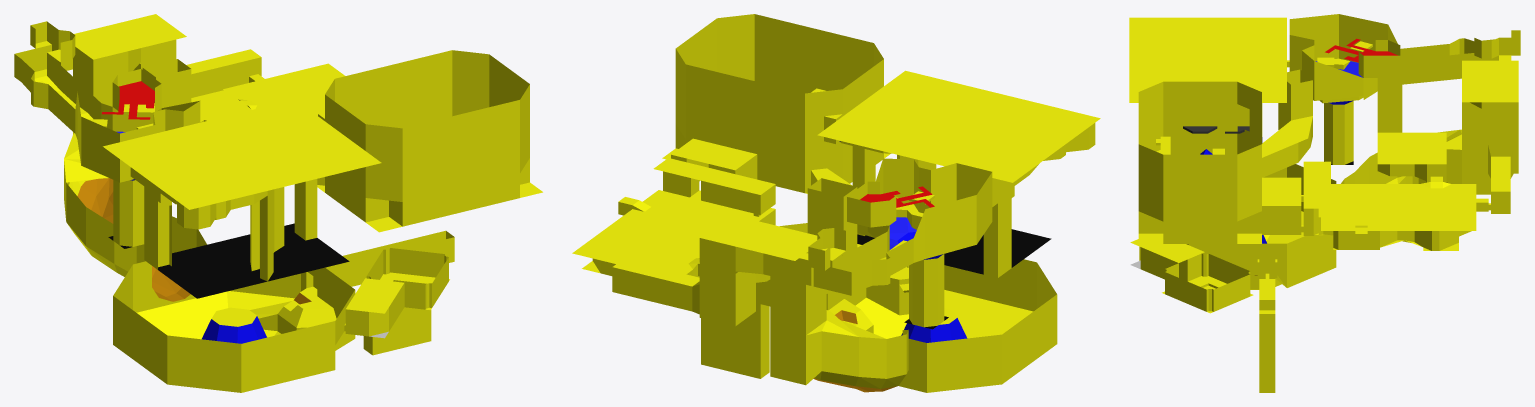
The model's file is hmc_segment7.0x25594.collision.obj.
3 renders of one model, left to right at view 1: azimuth 30°, elevation 25°; view 2: azimuth 150°, elevation 25°; view 3: azimuth 270°, elevation 25°, orthographic. The views are drawn at different scales.
Parts seen in each view (by area): view 1: hmc_segment7_25594_normal, hmc_segment7_25594_deathfloor, hmc_segment7_25594_climbable, hmc_segment7_25594_very_slippery, hmc_segment7_25594_hang; view 2: hmc_segment7_25594_normal, hmc_segment7_25594_deathfloor, hmc_segment7_25594_very_slippery, hmc_segment7_25594_hang, hmc_segment7_25594_slippery, hmc_segment7_25594_climbable; view 3: hmc_segment7_25594_normal, hmc_segment7_25594_hang, hmc_segment7_25594_fence.
Boxes of the visible parts, bbox=[...] form: hmc_segment7_25594_normal: bbox=[14, 14, 542, 392]; hmc_segment7_25594_deathfloor: bbox=[108, 223, 349, 298]; hmc_segment7_25594_climbable: bbox=[77, 178, 311, 304]; hmc_segment7_25594_very_slippery: bbox=[130, 179, 266, 343]; hmc_segment7_25594_hang: bbox=[102, 81, 154, 119]; hmc_segment7_25594_normal: bbox=[572, 14, 1100, 392]; hmc_segment7_25594_deathfloor: bbox=[857, 229, 1051, 329]; hmc_segment7_25594_very_slippery: bbox=[897, 232, 967, 342]; hmc_segment7_25594_hang: bbox=[860, 186, 934, 207]; hmc_segment7_25594_slippery: bbox=[889, 217, 916, 249]; hmc_segment7_25594_climbable: bbox=[813, 310, 897, 392]; hmc_segment7_25594_normal: bbox=[1129, 14, 1520, 392]; hmc_segment7_25594_hang: bbox=[1325, 38, 1397, 62]; hmc_segment7_25594_fence: bbox=[1183, 126, 1249, 133].
Size of the model in its own units: 15.3 by 11.58 by 15.87.
